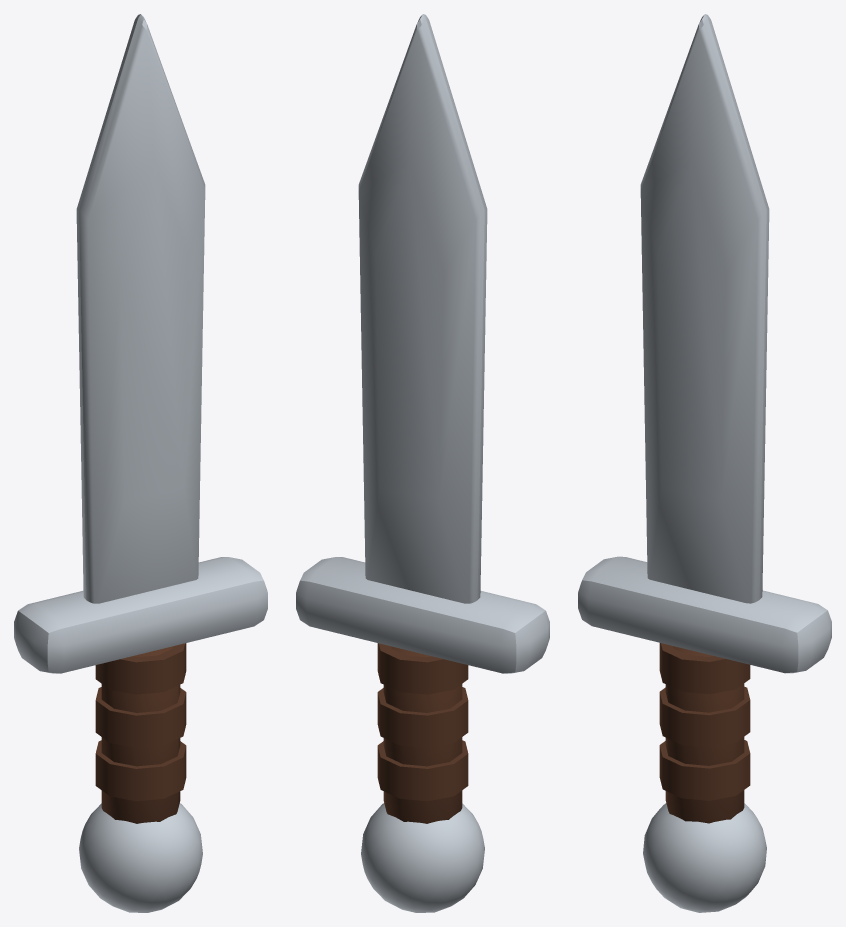
The model's file is dagger.glb.
The picture shows the model from 3 angles, left to right: view 1: azimuth 30°, elevation 25°; view 2: azimuth 150°, elevation 25°; view 3: azimuth 330°, elevation 25°; orthographic projection.
Visible parts, largest first — view 1: wpn_dagger; view 2: wpn_dagger; view 3: wpn_dagger.
Boxes of the visible parts, x1,y1,x2,y2 form: wpn_dagger: (14, 14, 267, 912); wpn_dagger: (296, 14, 549, 912); wpn_dagger: (578, 14, 831, 912).
Bounding box in the file's own units: 0.3 × 1.11 × 0.14.
